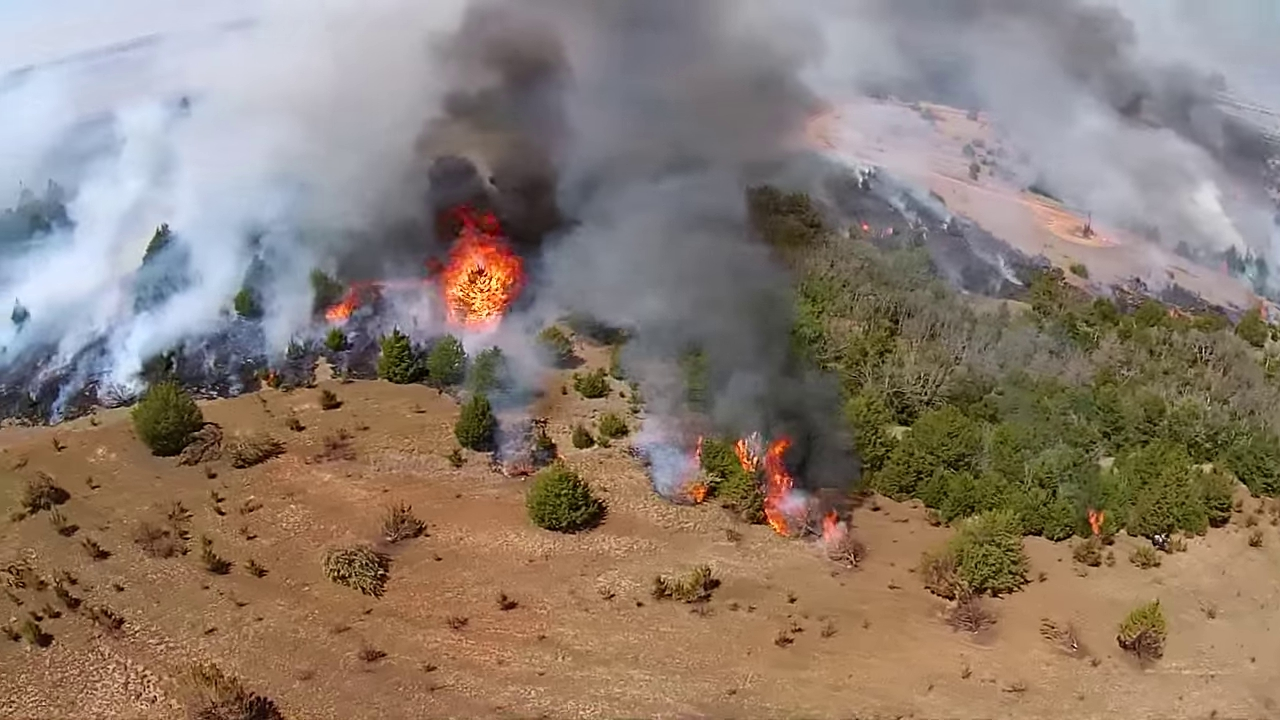forest_fire: (426, 204, 523, 328), (733, 433, 808, 535), (323, 281, 403, 322), (677, 480, 713, 502), (823, 511, 838, 537), (1089, 510, 1104, 534), (410, 281, 422, 286)
